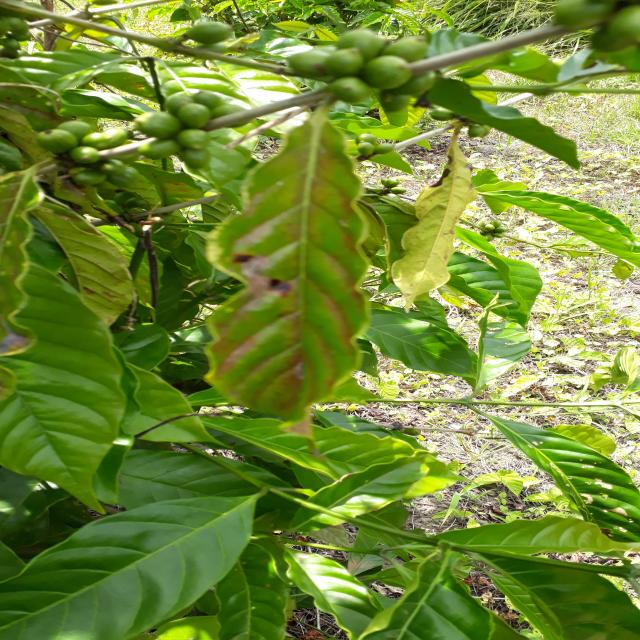Plaga-AranaRoja: (204, 108, 380, 423)
